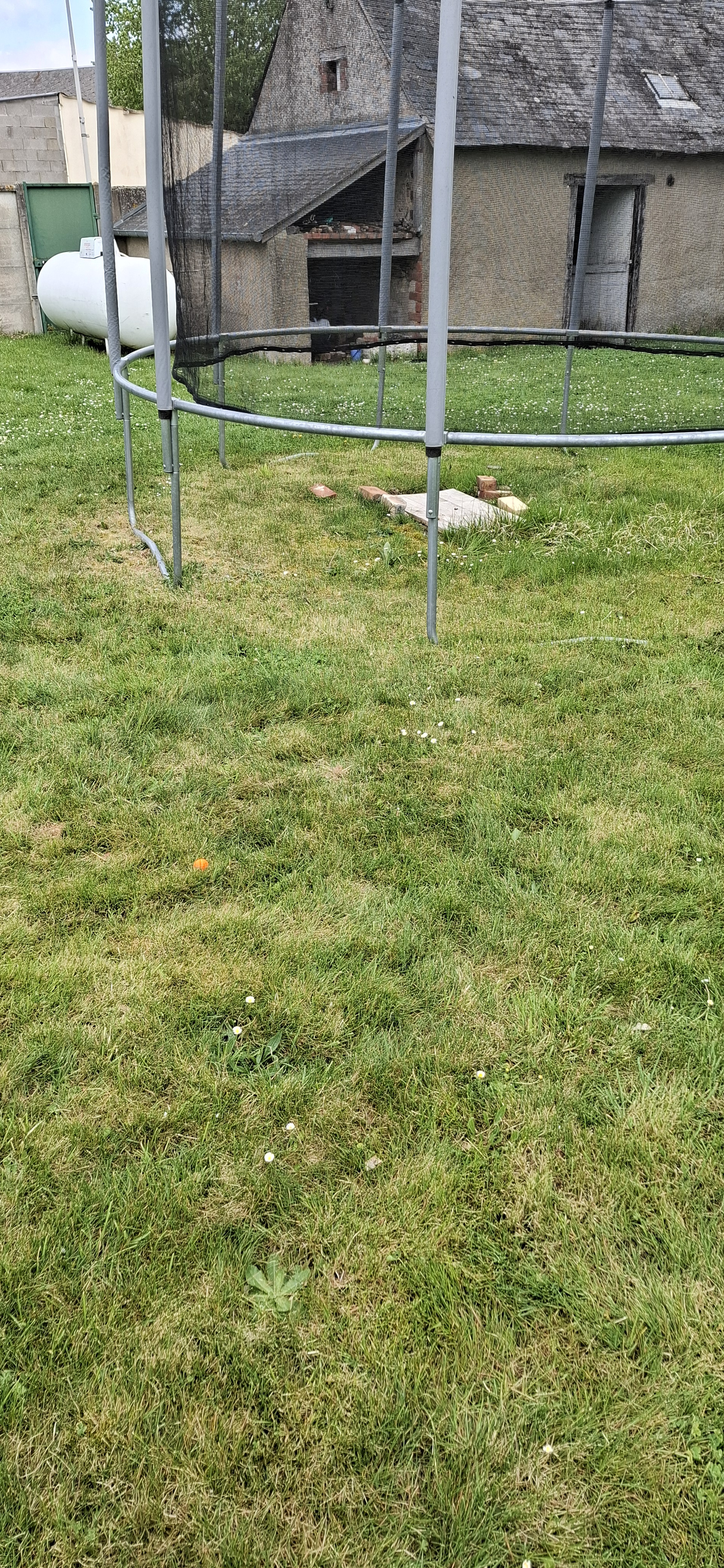ball: (397, 1115, 403, 1149)
